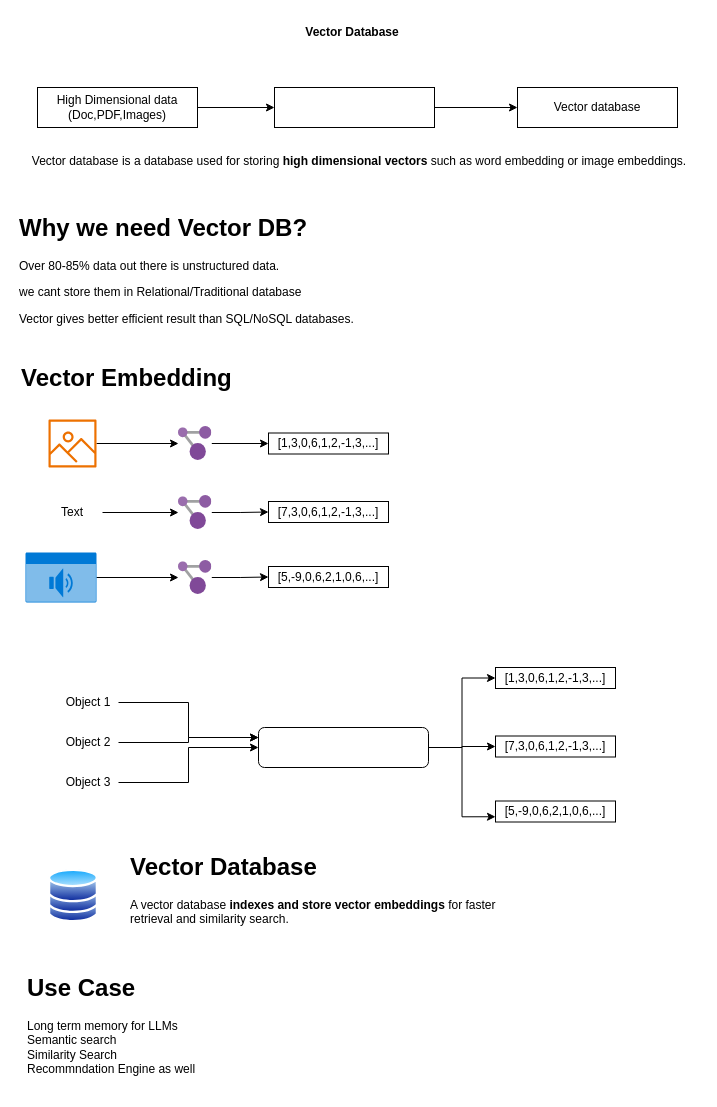
The diagram is 717 pixels wide and 1107 high, and some of its shapes have lost their labels. Each missing label, with the box of its shape:
Audio: (25, 552, 96, 602)
Embedding Model: (258, 726, 428, 768)
High Dimensional Vector 0.34,-0.23,0.99,-0.37: (274, 86, 434, 128)
